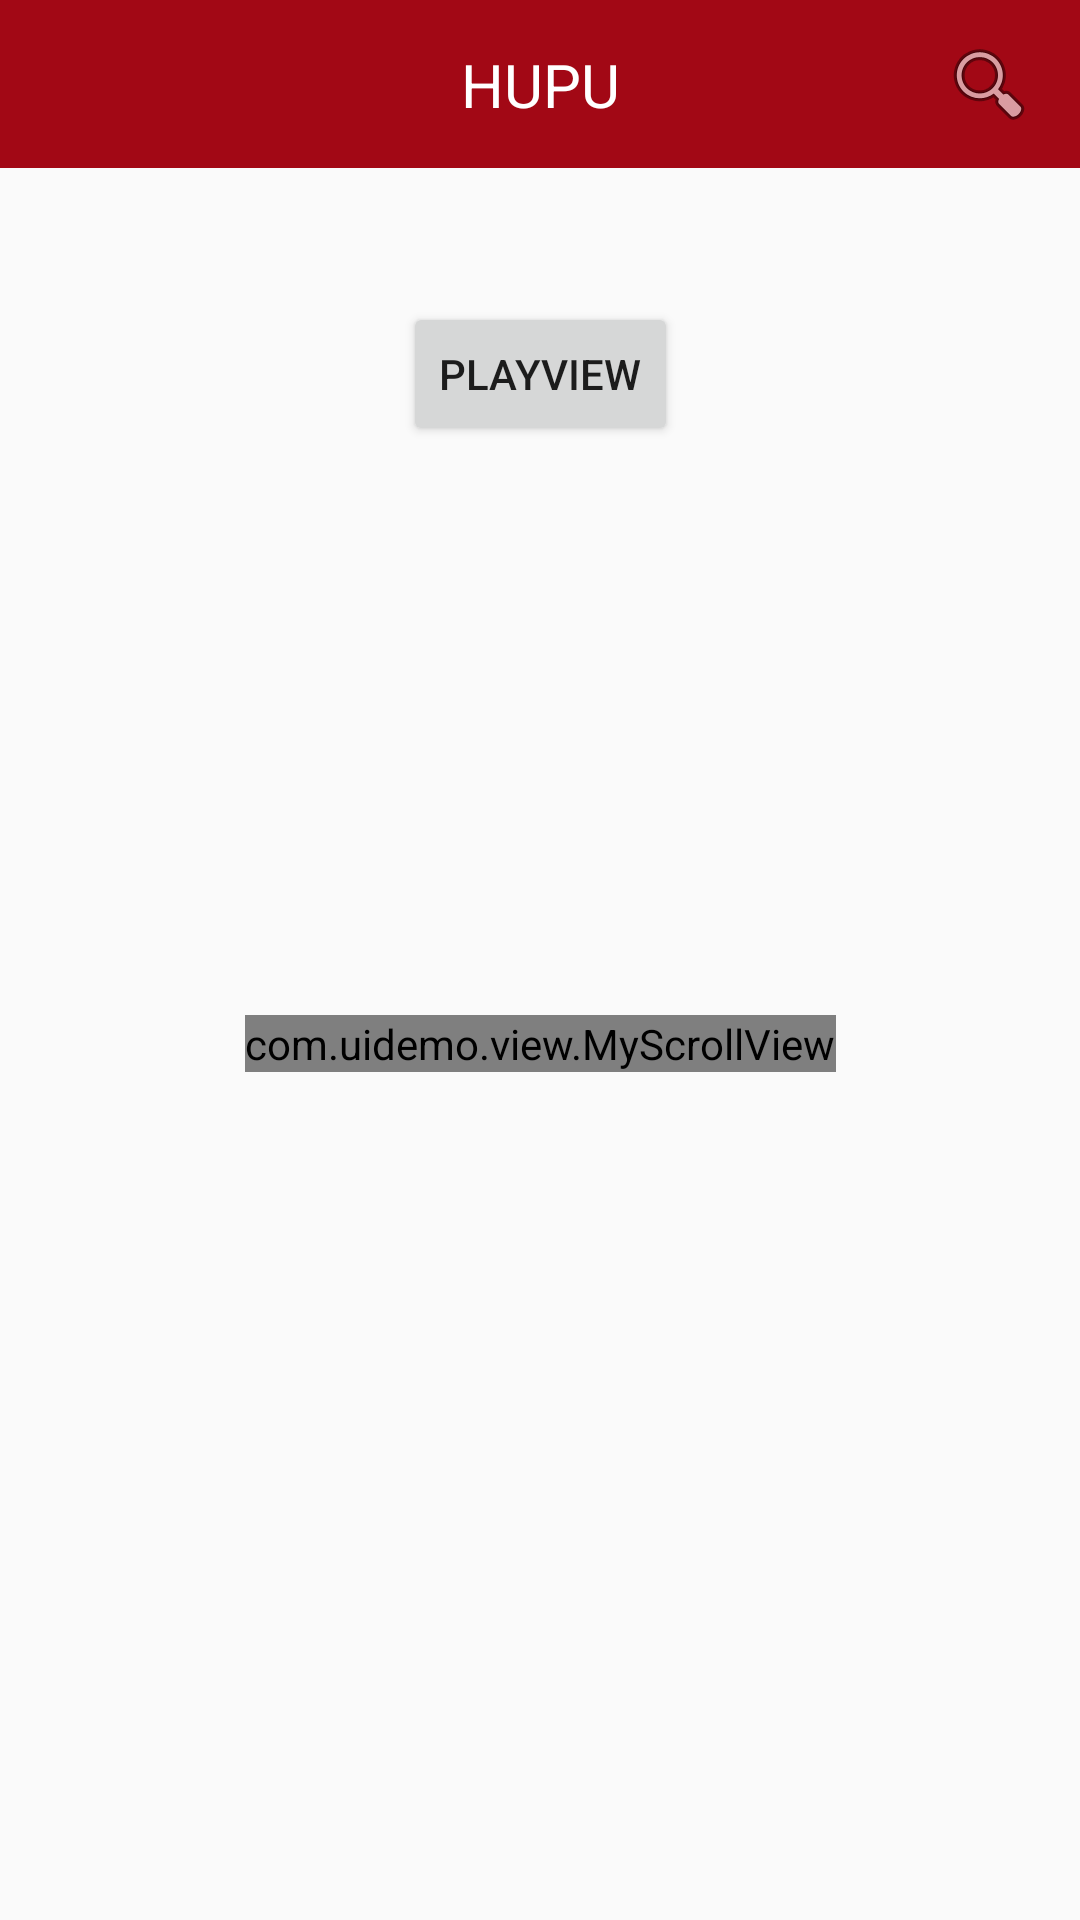

Where icons sit on this 1080px×1920px app screen, as [left=x1, top=y1, right=x2, bottom=y2]:
search: [left=954, top=49, right=1024, bottom=120]
